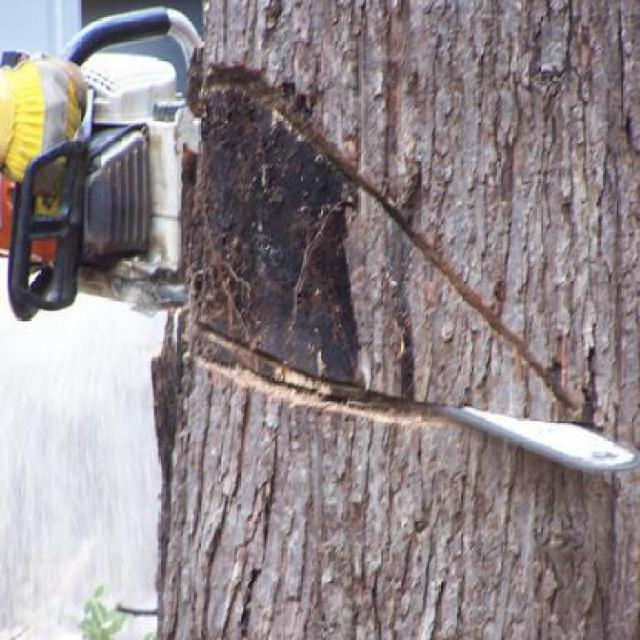Chainsaw: (0, 7, 638, 476)
